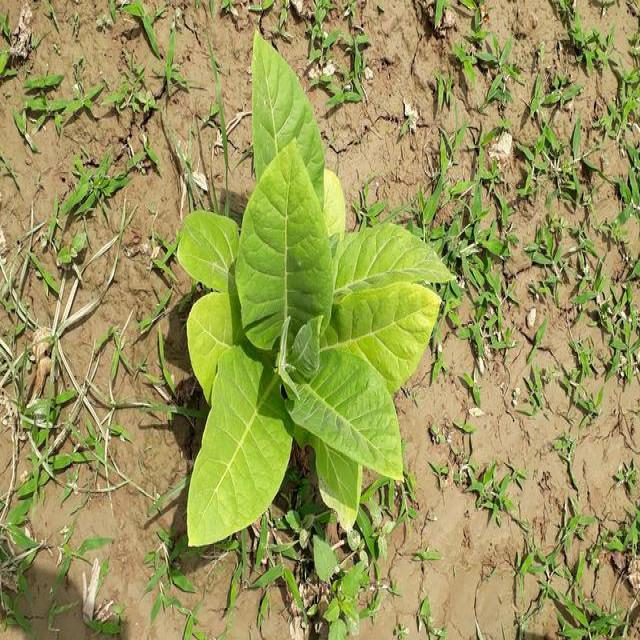crop: (180, 32, 454, 569)
